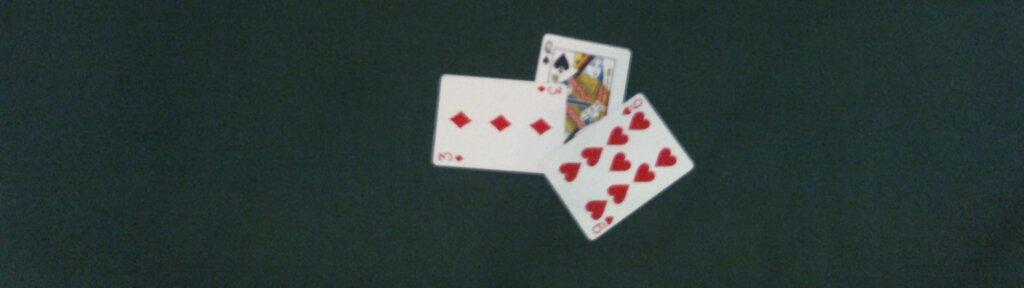nine: (545, 94, 694, 239)
queen: (534, 33, 632, 145)
three: (430, 74, 567, 173)
